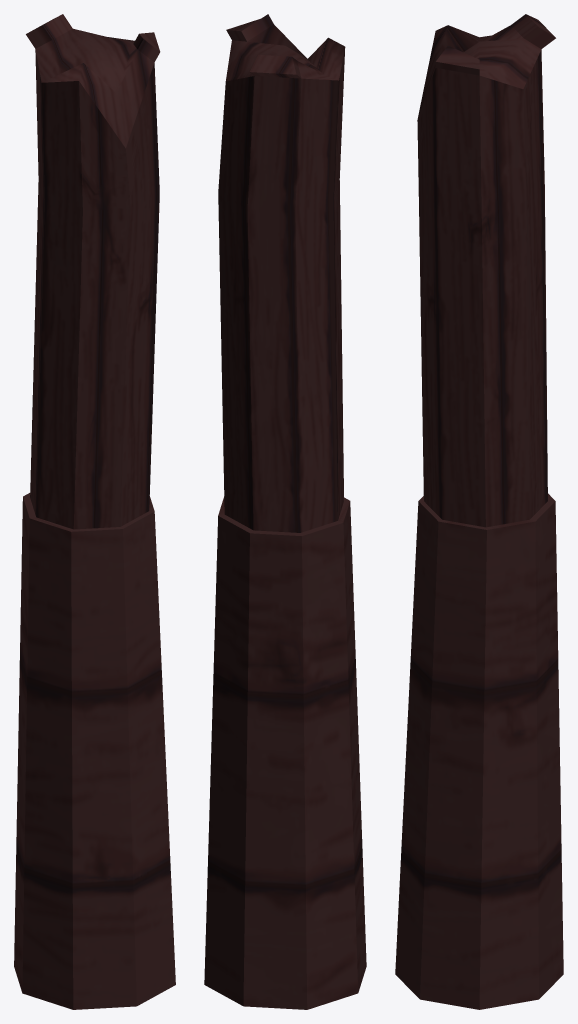
File: MOD_TallPierPillar_Block.fbx
The picture shows the model from 3 angles, left to right: view 1: azimuth 30°, elevation 25°; view 2: azimuth 150°, elevation 25°; view 3: azimuth 270°, elevation 25°; orthographic projection.
Visible parts, largest first — view 1: MOD_TallPierPillar_Block; view 2: MOD_TallPierPillar_Block; view 3: MOD_TallPierPillar_Block.
Part boxes in pixels (box(x1,y1,x2,y2)): MOD_TallPierPillar_Block: box(14, 14, 175, 1009); MOD_TallPierPillar_Block: box(204, 14, 366, 1009); MOD_TallPierPillar_Block: box(395, 14, 563, 1009).
Bounding box in the file's own units: 68.13 × 422 × 68.13.
1 material, 1 textured.
